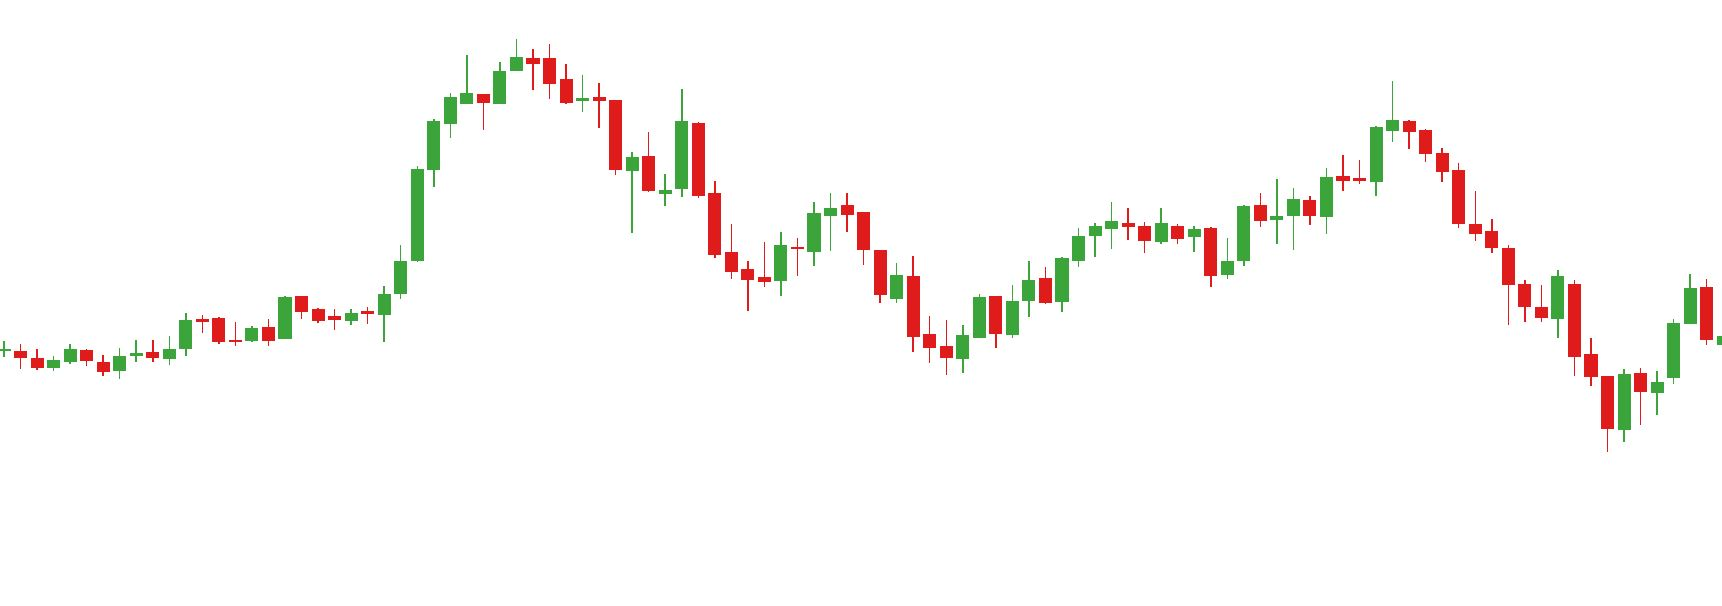sell: (725, 197, 871, 277)
